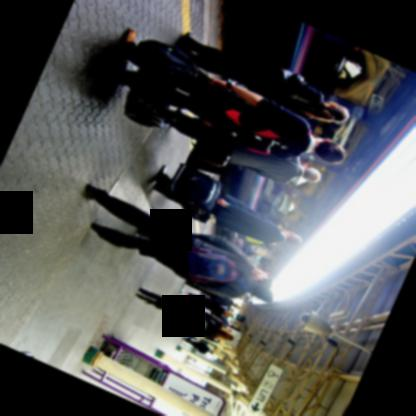backpack: (209, 103, 295, 157), (185, 245, 238, 282), (184, 313, 217, 337)
handbag: (133, 39, 210, 82), (166, 162, 222, 211), (271, 67, 310, 104), (188, 335, 196, 339)
suitcase: (122, 88, 169, 127)
